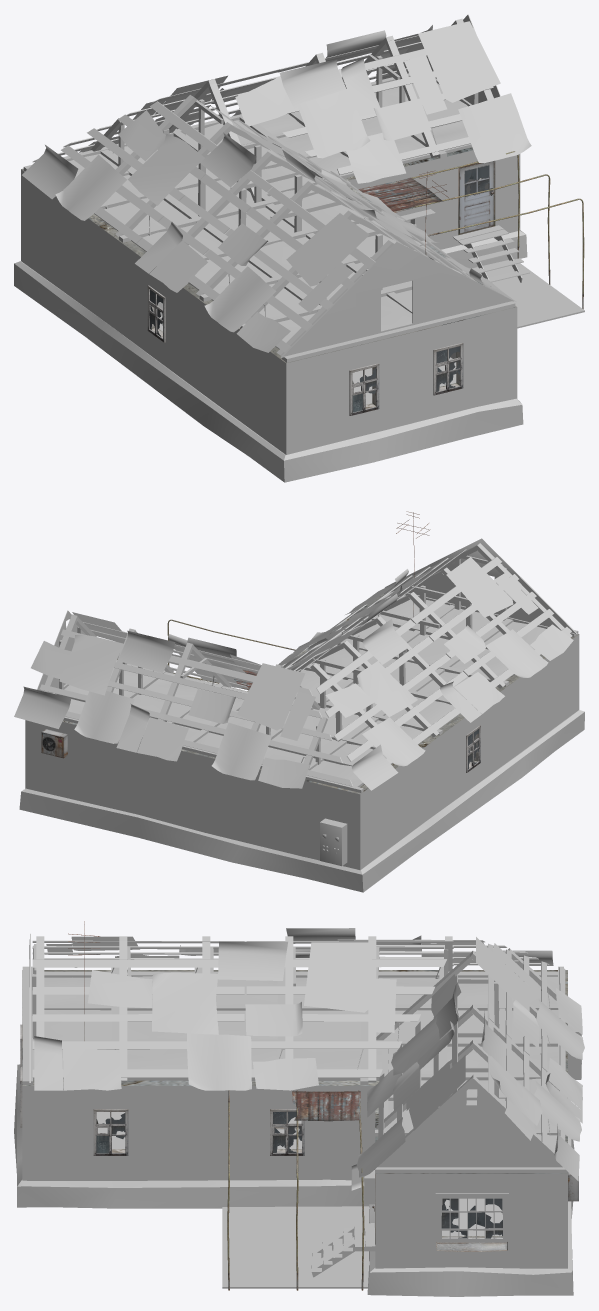
File: Houses_Ready_03_Form2.FBX
3 renders of one model, top to bottom at view 1: azimuth 30°, elevation 25°; view 2: azimuth 150°, elevation 25°; view 3: azimuth 270°, elevation 25°, orthographic. The views are drawn at different scales.
Parts seen in each view (by area): view 1: Attic_04_Form2, Corps_02_3, Roof_08_Form2, Foundation_04_2, Porch_07_2, Door_06, Windows_05, Windows_05_2, Electrical_Box_02_Open; view 2: Roof_08_Form2, Corps_02_3, Attic_04_Form2, Foundation_04_2, Electrical_Box_01, Air_03; view 3: Attic_04_Form2, Roof_08_Form2, Corps_02_3, Foundation_04_2, Porch_07_2, Windows_Big_02, Windows_05_2, Windows_05, Outflow_Big_01, Electrical_Box_02_Open.
Part boxes in pixels (<box>): Attic_04_Form2: <box>23,14,515,362</box>; Corps_02_3: <box>21,147,520,454</box>; Roof_08_Form2: <box>22,21,531,352</box>; Foundation_04_2: <box>14,230,527,482</box>; Porch_07_2: <box>358,151,584,328</box>; Door_06: <box>459,161,493,233</box>; Windows_05: <box>433,343,463,395</box>; Windows_05_2: <box>349,363,379,415</box>; Electrical_Box_02_Open: <box>397,209,435,239</box>; Roof_08_Form2: <box>14,557,573,790</box>; Corps_02_3: <box>25,594,579,869</box>; Attic_04_Form2: <box>37,538,578,792</box>; Foundation_04_2: <box>19,710,584,892</box>; Electrical_Box_01: <box>320,818,347,866</box>; Air_03: <box>41,729,67,758</box>; Attic_04_Form2: <box>22,933,567,1173</box>; Roof_08_Form2: <box>34,928,584,1181</box>; Corps_02_3: <box>22,970,567,1268</box>; Foundation_04_2: <box>14,1064,574,1296</box>; Porch_07_2: <box>222,1090,375,1290</box>; Windows_Big_02: <box>435,1193,508,1242</box>; Windows_05_2: <box>93,1109,128,1155</box>; Windows_05: <box>270,1109,304,1155</box>; Outflow_Big_01: <box>436,1242,507,1251</box>; Electrical_Box_02_Open: <box>351,1164,374,1204</box>.
Bounding box in the file's own units: 1501 × 1688 × 825.
